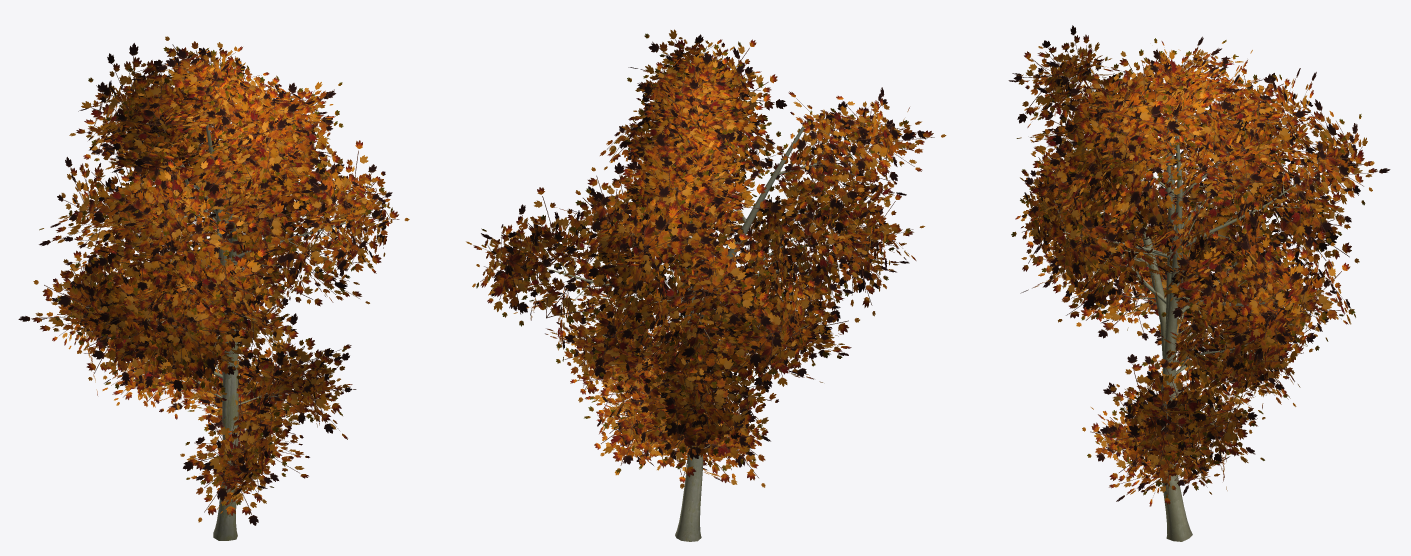
The model's file is tree_maple.glb.
3 views of the same model, side by side, from view 1: azimuth 30°, elevation 25°; view 2: azimuth 150°, elevation 25°; view 3: azimuth 270°, elevation 25° (orthographic).
Visible parts, largest first — view 1: plant; view 2: plant; view 3: plant.
Boxes of the visible parts, <box> form: plant: <box>18,36,409,540</box>; plant: <box>466,29,946,541</box>; plant: <box>1008,25,1390,541</box>.
Bounding box in the file's own units: 7.65 × 9.42 × 7.1.
2 materials, 2 textured.
